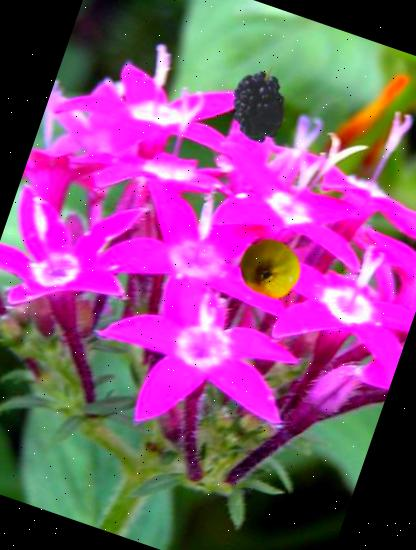Apple: (231, 229, 310, 308)
Mulberry: (198, 56, 302, 160)
